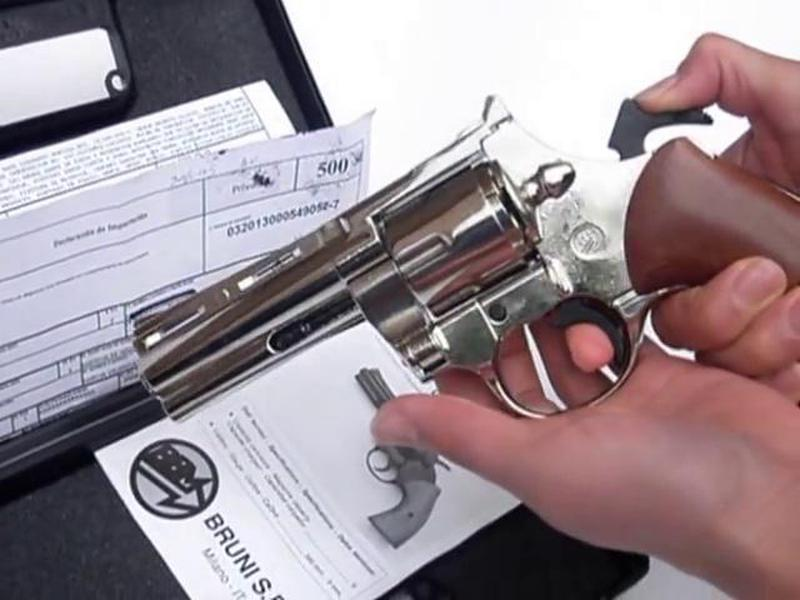Revolver: (102, 101, 789, 429)
